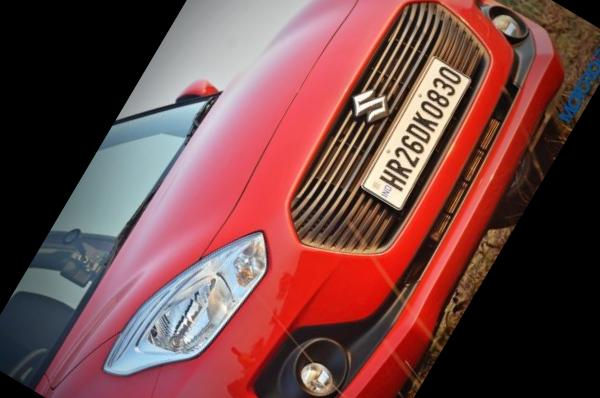plate: (346, 33, 505, 222)
